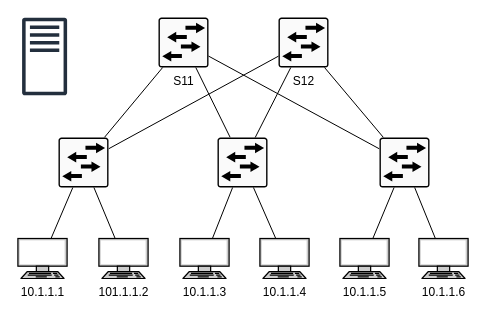
This 487x317 diagram has some shape labels left out. Each missing label, with the centre of its shape:
"Controller" belongs at point (44, 56).
"S21" belongs at point (83, 162).
"S22" belongs at point (242, 162).
"S23" belongs at point (404, 162).
